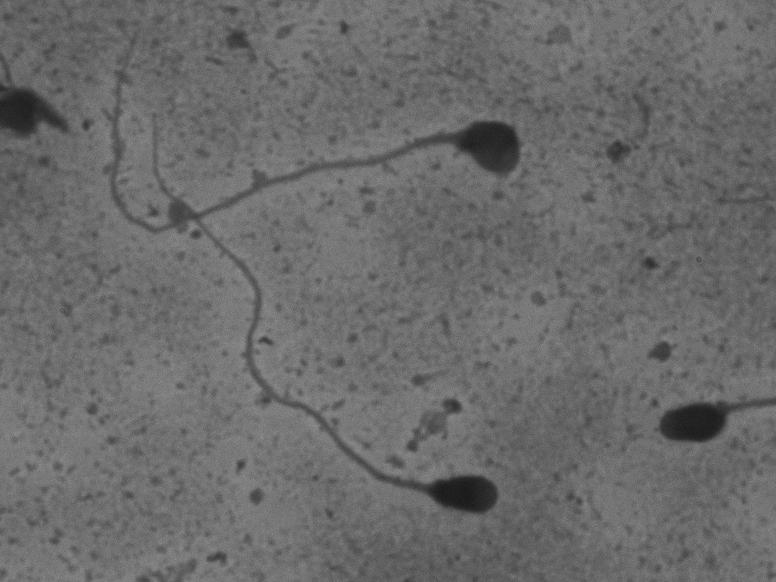Abnormal: (144, 105, 512, 521), (59, 39, 538, 250)
